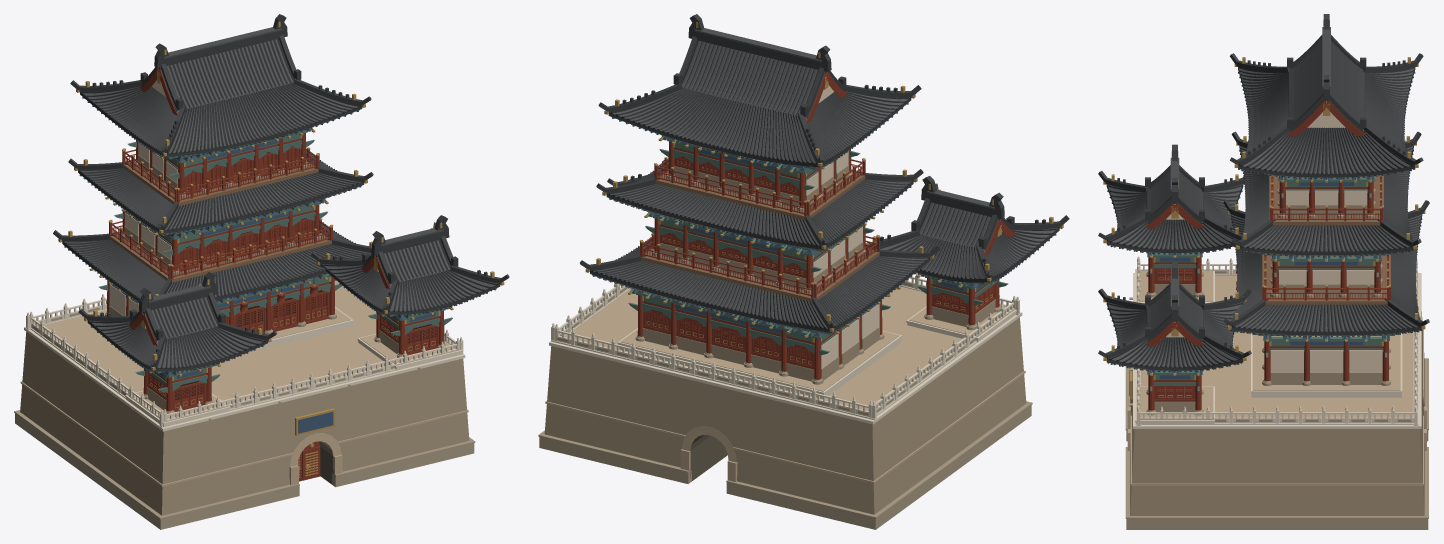
The picture shows the model from 3 angles, left to right: view 1: azimuth 30°, elevation 25°; view 2: azimuth 150°, elevation 25°; view 3: azimuth 270°, elevation 25°; orthographic projection. The views are drawn at different scales.
Parts seen in each view (by area): view 1: X01; view 2: X01; view 3: X01.
Part boxes in pixels (left/top/right/bottom): X01: left=14, top=14, right=509, bottom=529; X01: left=538, top=14, right=1069, bottom=529; X01: left=1098, top=14, right=1429, bottom=529.
Bounding box in the file's own units: 34.96 × 36.35 × 26.93.
